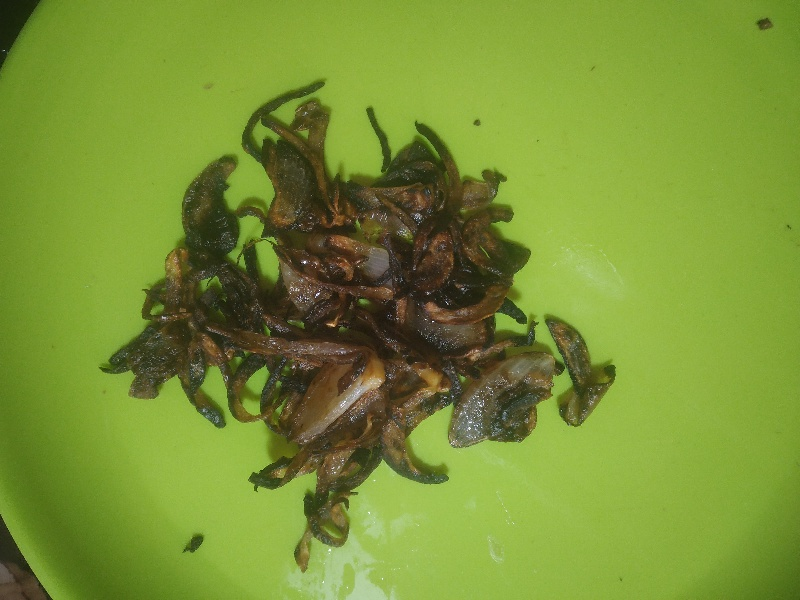onion_burnt: (97, 78, 616, 557)
